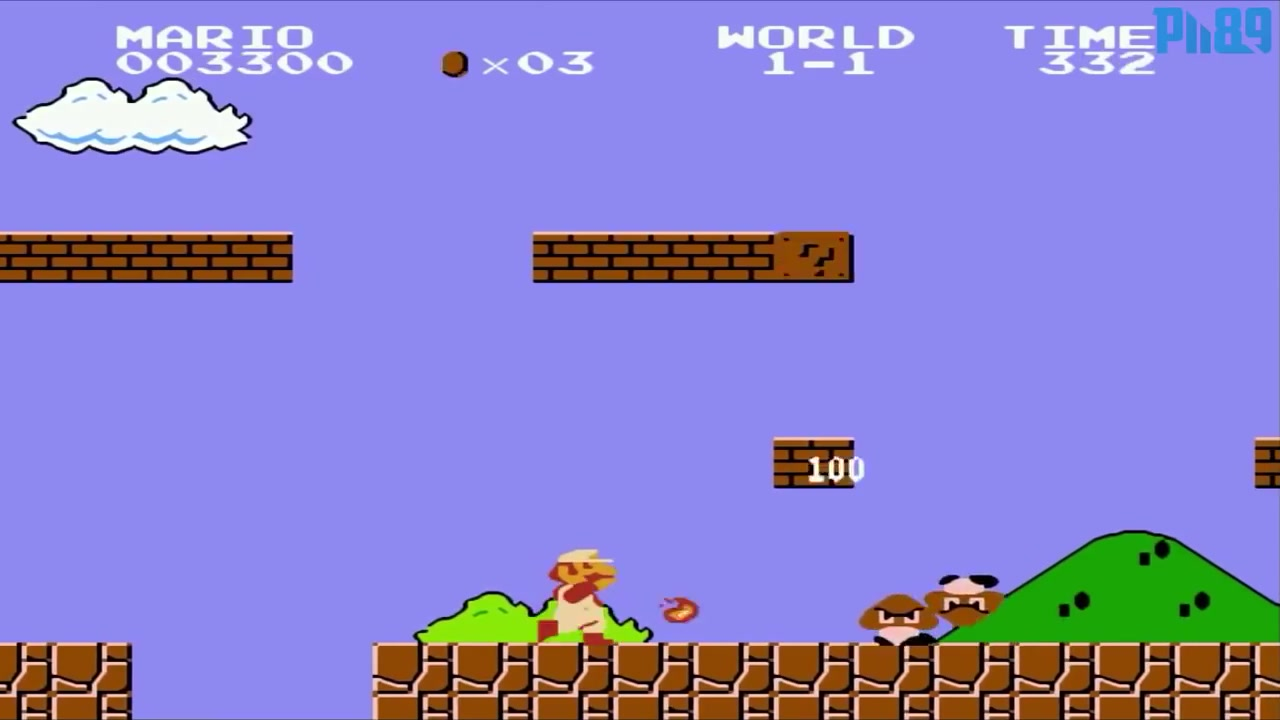mario: (524, 528, 618, 654)
